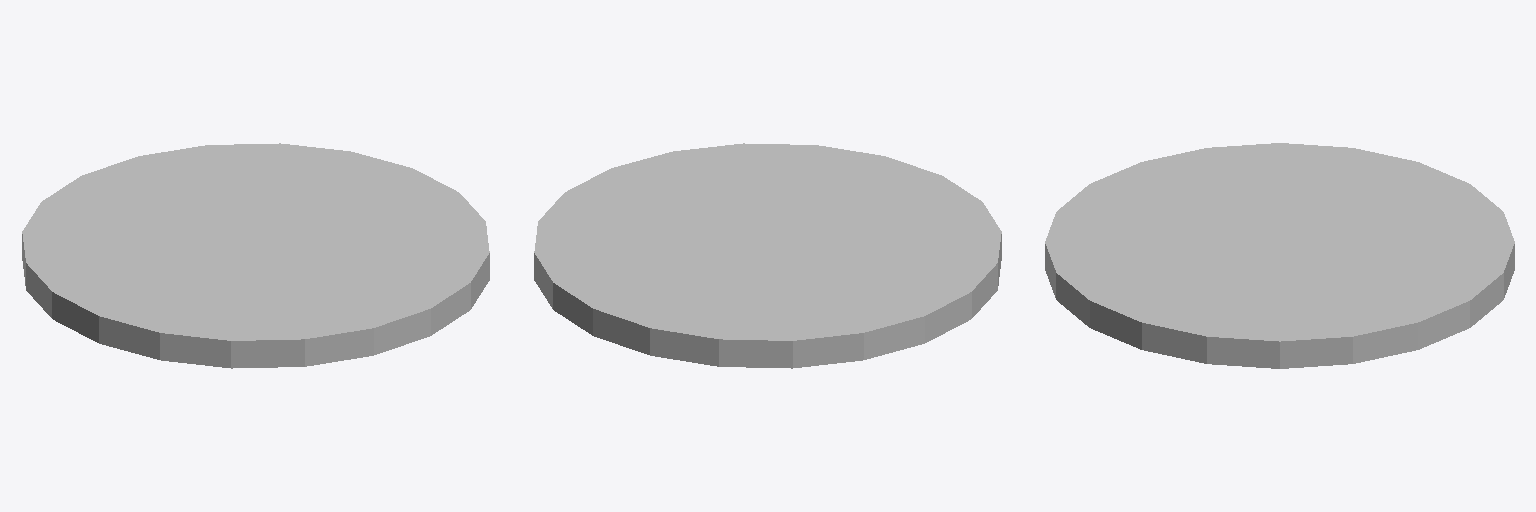
Rendered from 第三方系统_灯.obj.
3 views of the same model, side by side, from view 1: azimuth 30°, elevation 25°; view 2: azimuth 150°, elevation 25°; view 3: azimuth 270°, elevation 25° (orthographic).
Visible parts, largest first — view 1: polySurface8; view 2: polySurface8; view 3: polySurface8.
Boxes of the visible parts, box(x1,y1,x2,y2) form: polySurface8: box(22, 143, 489, 368); polySurface8: box(534, 143, 1001, 368); polySurface8: box(1045, 143, 1514, 368).
Size of the model in its own units: 35.92 by 2.32 by 35.92.